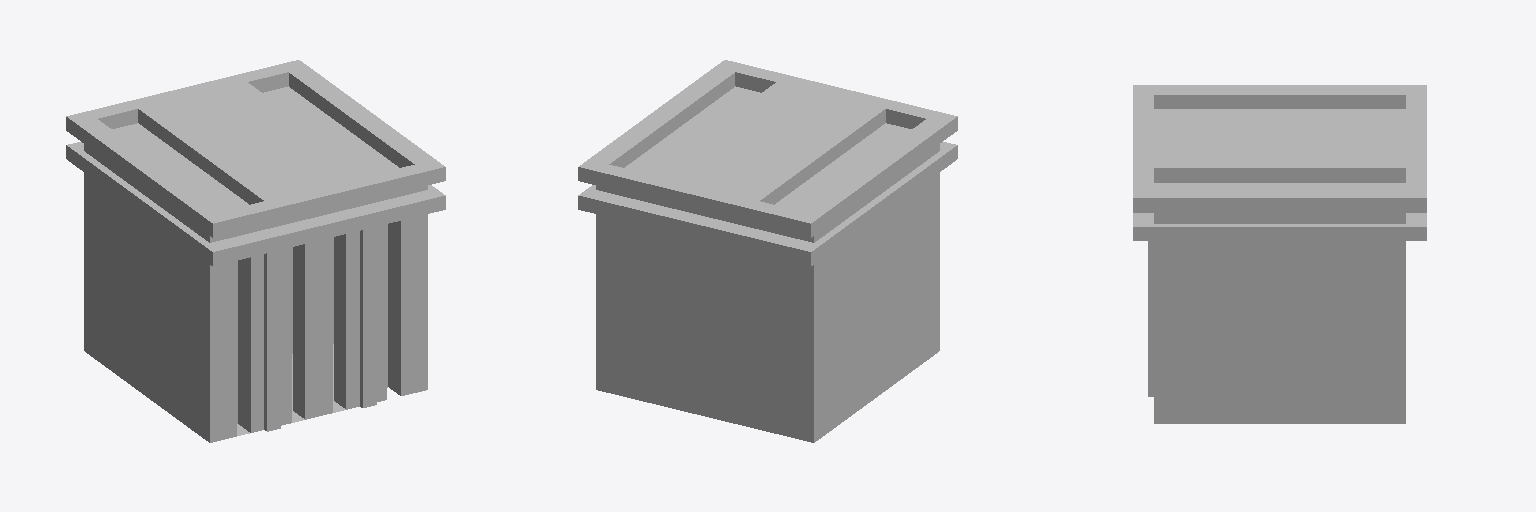
Rendered from temple.obj.
3 views of the same model, side by side, from view 1: azimuth 30°, elevation 25°; view 2: azimuth 150°, elevation 25°; view 3: azimuth 270°, elevation 25° (orthographic).
Parts seen in each view (by area): view 1: Temple; view 2: Temple; view 3: Temple.
Part boxes in pixels (bbox=[...]): Temple: bbox=[66, 60, 445, 442]; Temple: bbox=[578, 60, 957, 442]; Temple: bbox=[1133, 85, 1426, 423].
Bounding box in the file's own units: 10.66 × 10 × 11.61.